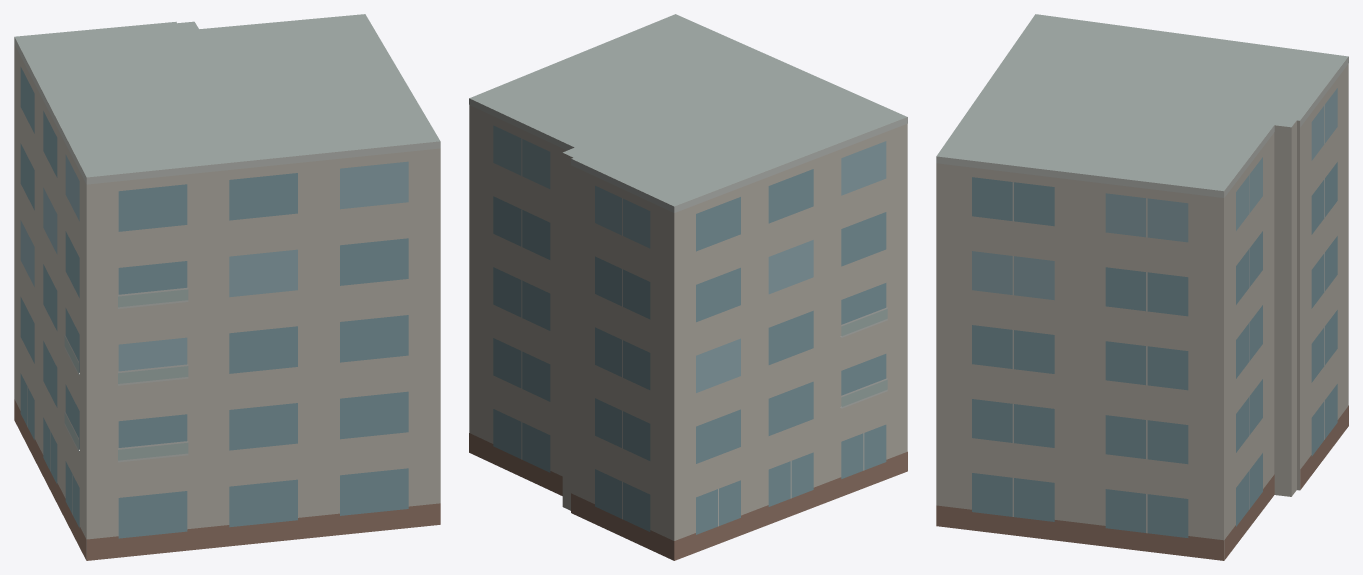
File: survey-upis-32655034.glb
The picture shows the model from 3 angles, left to right: view 1: azimuth 30°, elevation 25°; view 2: azimuth 150°, elevation 25°; view 3: azimuth 270°, elevation 25°; orthographic projection. The views are drawn at different scales.
Parts seen in each view (by area): view 1: survey-upis-32655034.tmp; view 2: survey-upis-32655034.tmp; view 3: survey-upis-32655034.tmp.
Part boxes in pixels (box(x1,y1,x2,y2)): survey-upis-32655034.tmp: box(14, 14, 440, 560); survey-upis-32655034.tmp: box(469, 14, 907, 560); survey-upis-32655034.tmp: box(936, 14, 1348, 560).
Bounding box in the file's own units: 13.58 × 13.2 × 13.36.
